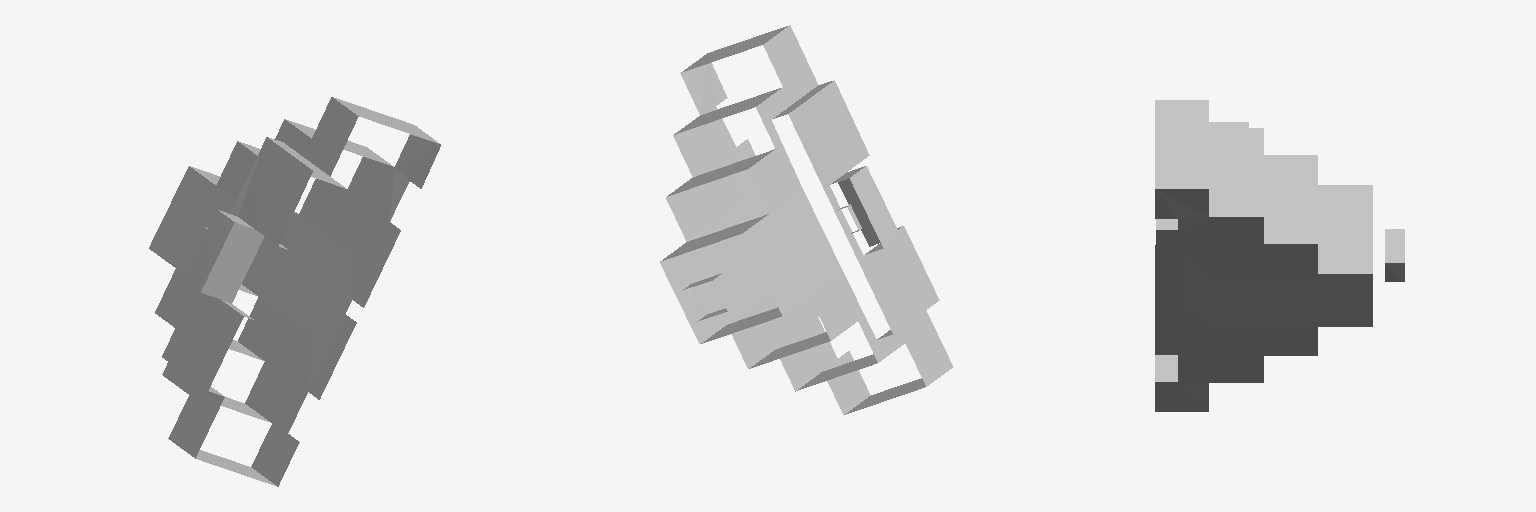
The model's file is polygon803.obj.
3 renders of one model, left to right at view 1: azimuth 30°, elevation 25°; view 2: azimuth 150°, elevation 25°; view 3: azimuth 270°, elevation 25°, orthographic.
Visible parts, largest first — view 1: polygon803; view 2: polygon803; view 3: polygon803.
Part boxes in pixels (x1,y1,x2,y2): polygon803: (149, 97, 440, 486); polygon803: (660, 25, 952, 414); polygon803: (1155, 100, 1404, 411).
Size of the model in its own units: 480 by 653 by 422.